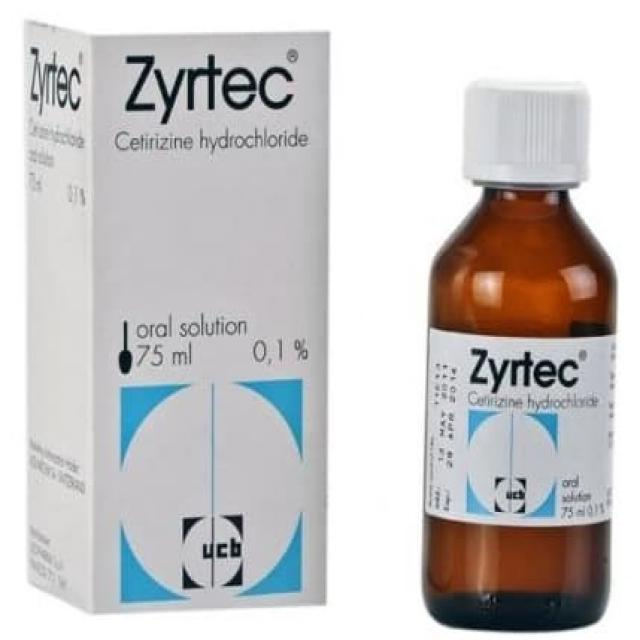drug-name: (117, 46, 305, 126)
